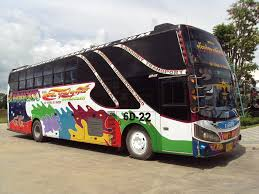bus: (6, 23, 243, 161)
